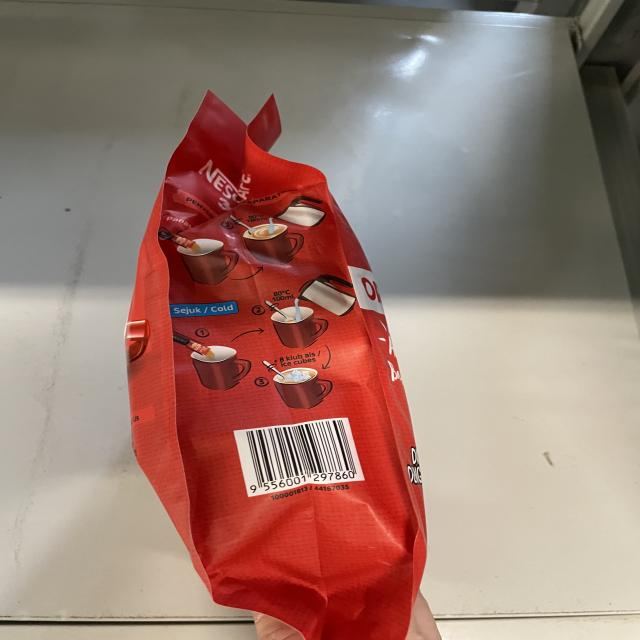object_name: (128, 92, 439, 640)
